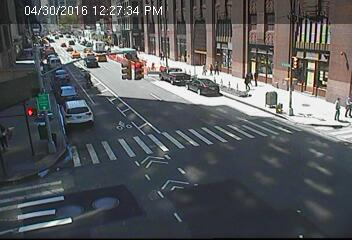neg: (144, 164, 161, 186), (232, 149, 249, 171), (26, 98, 42, 120), (34, 48, 50, 69), (194, 105, 209, 124), (142, 85, 156, 104), (286, 8, 300, 27), (108, 172, 122, 190), (265, 186, 279, 204), (282, 44, 295, 62), (235, 199, 248, 217), (97, 95, 110, 112), (186, 32, 198, 48), (194, 203, 206, 219), (254, 9, 266, 24), (76, 32, 87, 47), (132, 5, 143, 19), (54, 32, 64, 46), (171, 1, 181, 14), (294, 153, 304, 166), (97, 31, 106, 42), (154, 31, 162, 42), (249, 36, 257, 47), (307, 203, 315, 213), (314, 49, 321, 58), (224, 8, 231, 17), (218, 36, 224, 45), (328, 30, 334, 38)
pos: (324, 92, 345, 120), (337, 87, 351, 117), (237, 68, 255, 91), (208, 57, 224, 79), (247, 68, 263, 88), (198, 58, 210, 74), (205, 60, 217, 75), (159, 47, 166, 57)
